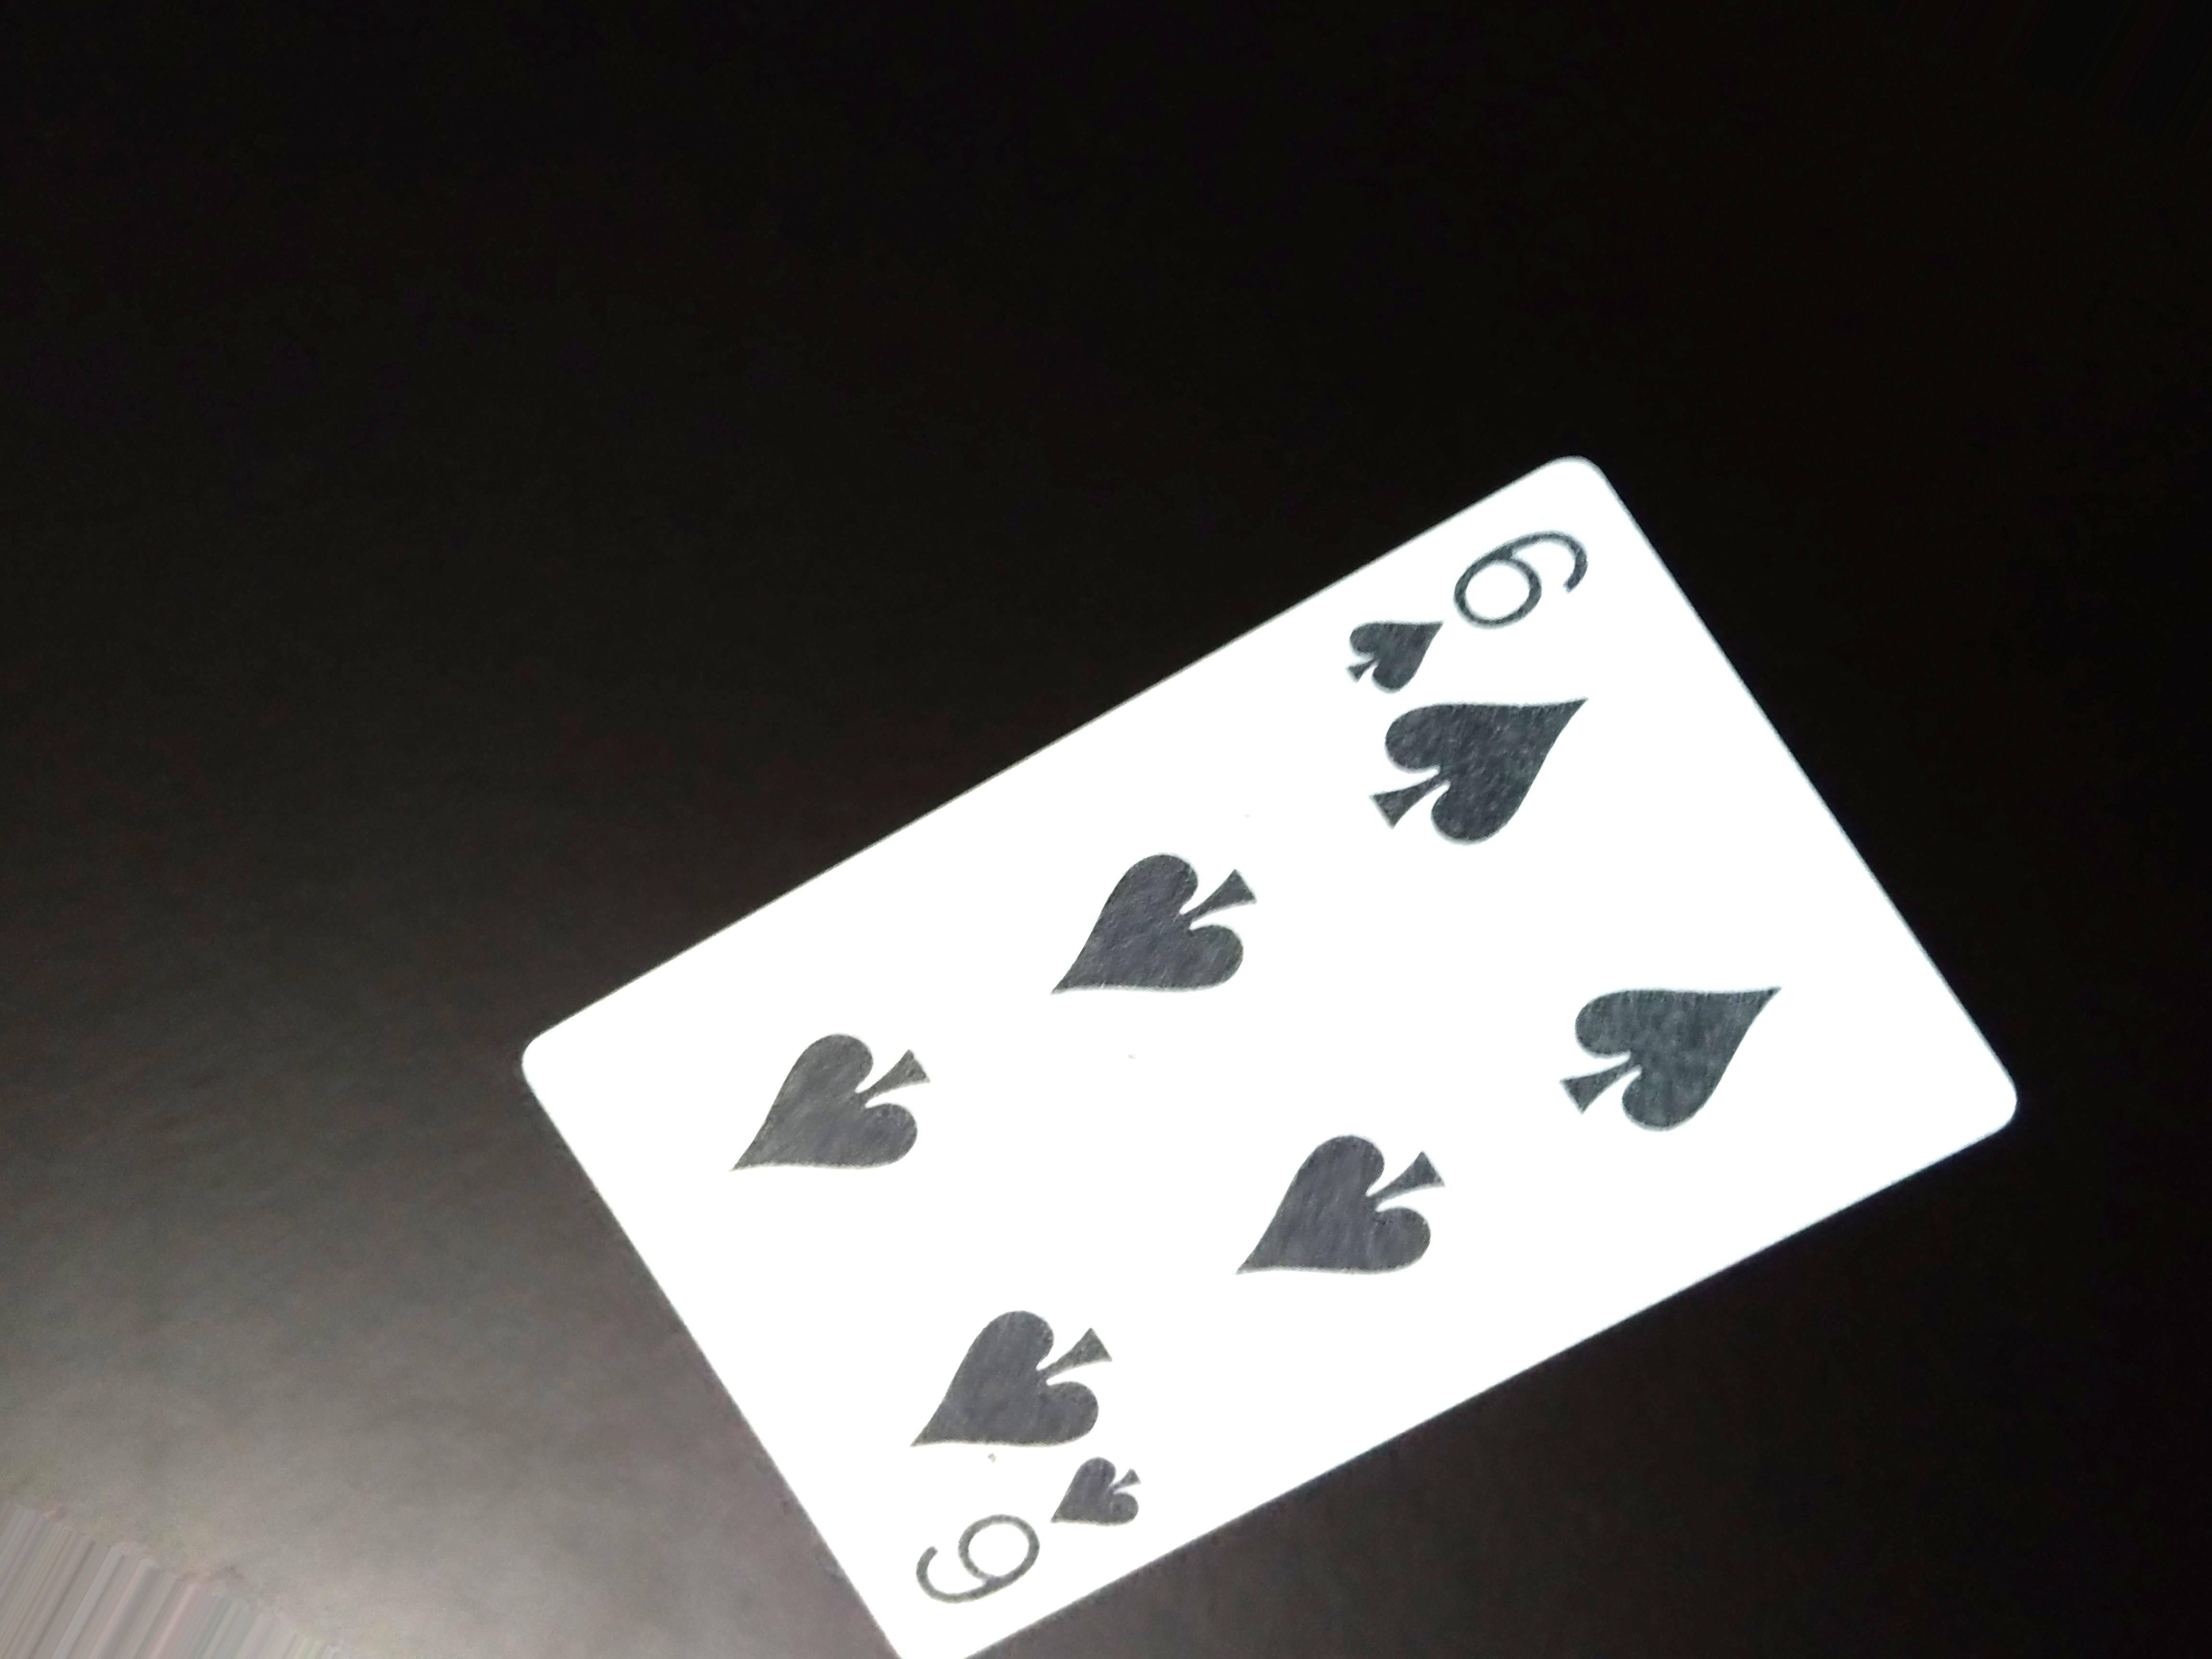6S: (871, 1453, 1148, 1598)
